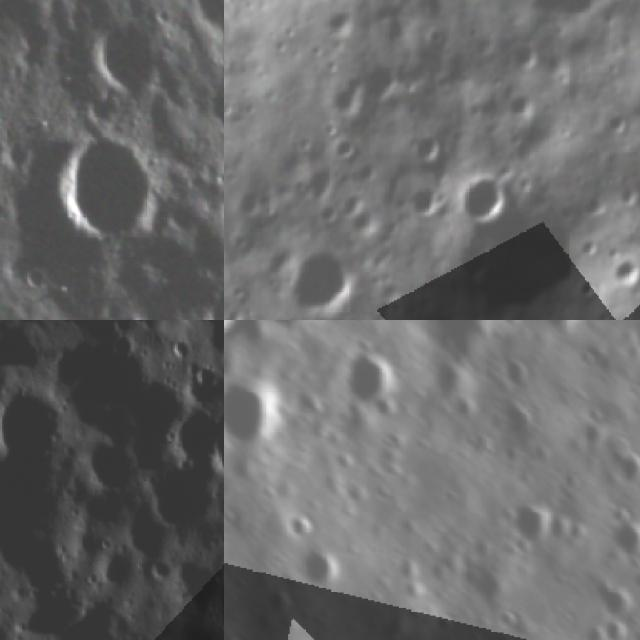crater: (432, 175, 618, 320), (46, 123, 163, 251), (318, 327, 414, 421), (80, 1, 174, 96), (224, 357, 303, 466), (278, 233, 372, 320), (396, 320, 515, 377), (0, 383, 74, 472), (134, 468, 224, 534), (495, 482, 567, 556), (2, 584, 90, 640), (458, 542, 526, 612), (153, 403, 224, 469), (452, 162, 518, 231), (70, 432, 135, 498), (289, 536, 352, 600), (581, 564, 640, 629), (350, 49, 412, 110), (42, 610, 162, 640), (167, 550, 224, 611), (394, 174, 451, 231), (491, 385, 548, 442), (488, 345, 544, 400), (527, 0, 608, 38), (596, 504, 640, 573), (596, 441, 640, 502), (401, 119, 453, 170), (322, 75, 369, 129), (95, 545, 149, 592), (274, 498, 324, 547), (259, 572, 306, 622), (317, 2, 363, 48), (240, 320, 331, 342), (297, 158, 341, 202), (601, 248, 640, 297), (498, 87, 540, 130), (506, 34, 542, 80), (533, 320, 591, 347), (488, 598, 527, 638), (364, 387, 401, 426), (322, 126, 360, 162), (569, 339, 603, 375), (338, 188, 370, 220), (224, 623, 255, 640)
